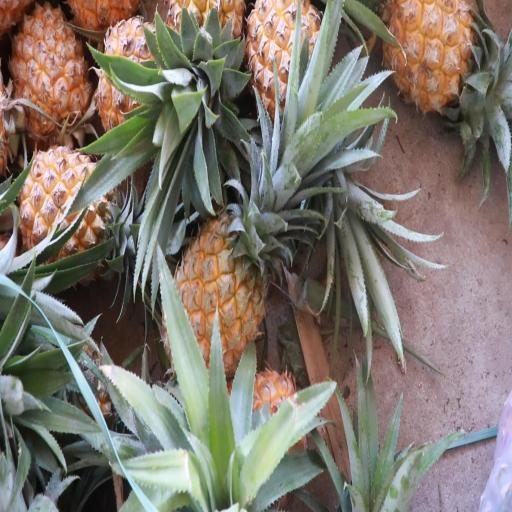Pineapple - v8 v1: (160, 191, 294, 385), (17, 140, 132, 289), (241, 0, 335, 155), (90, 6, 188, 151), (378, 0, 484, 126), (160, 0, 252, 137), (10, 5, 96, 147)
